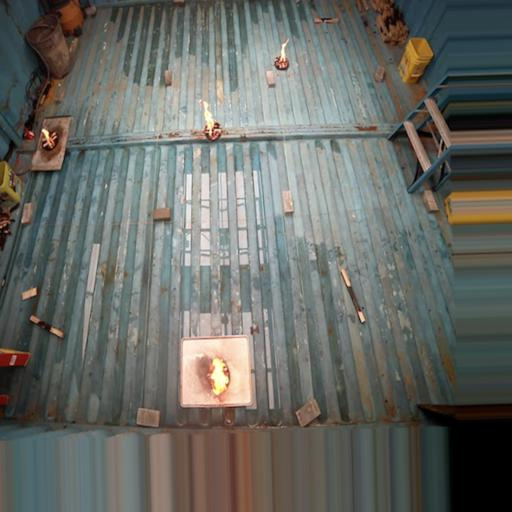Fire: (209, 358, 230, 395), (202, 101, 216, 134), (280, 39, 288, 61), (41, 127, 51, 141)
